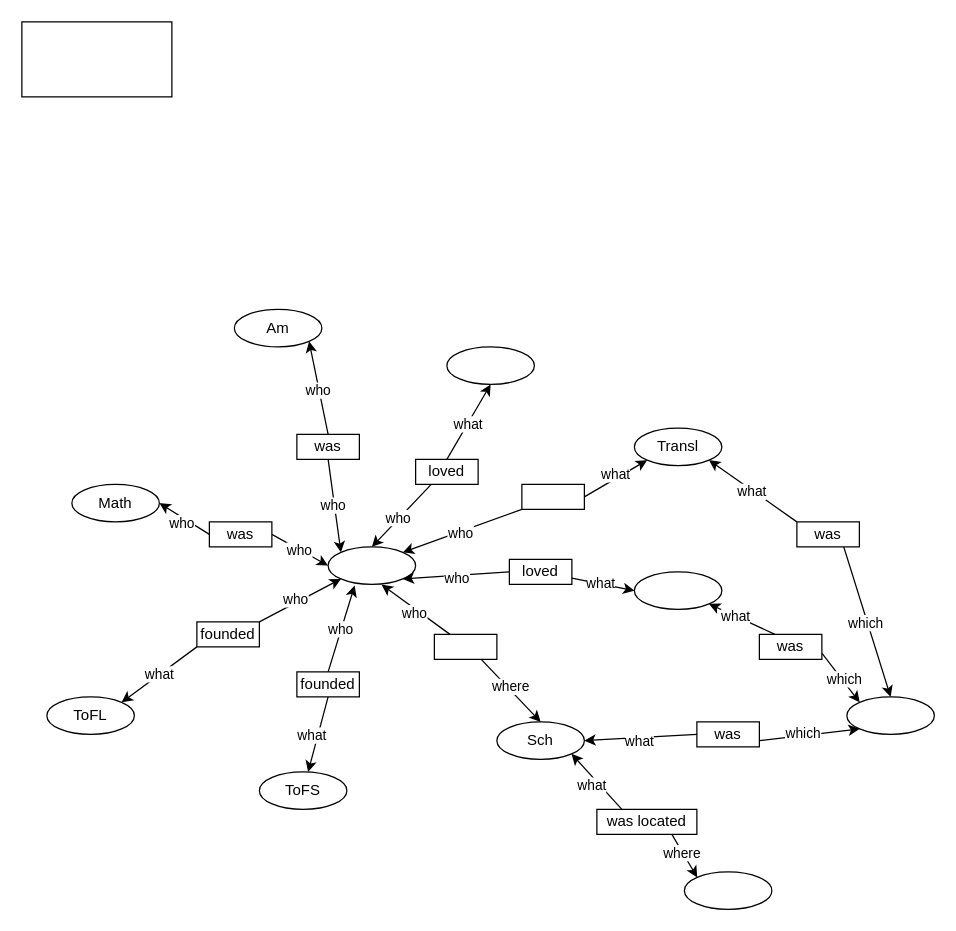
This 956x931 diagram has some shape labels left out. Each missing label, with the centre of its shape:
"Baku" goes at (727,890).
"Class" goes at (490,365).
"LAZ" goes at (371,565).
"Lit" goes at (677,590).
"read" goes at (552,496).
"Ru" goes at (890,715).
"studied" goes at (465,646).
